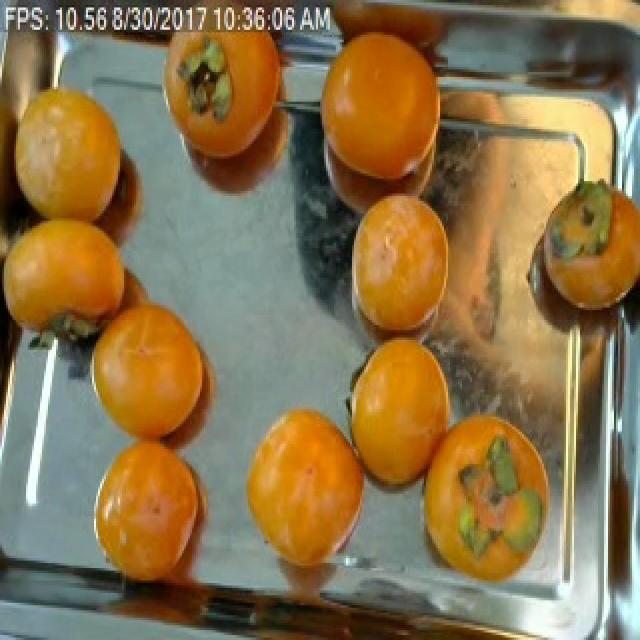Fruit: (142, 12, 312, 228), (74, 276, 236, 472), (230, 387, 382, 593), (402, 394, 552, 600), (2, 65, 148, 253), (330, 176, 468, 362), (80, 432, 230, 600), (334, 325, 462, 513), (536, 166, 640, 328)
